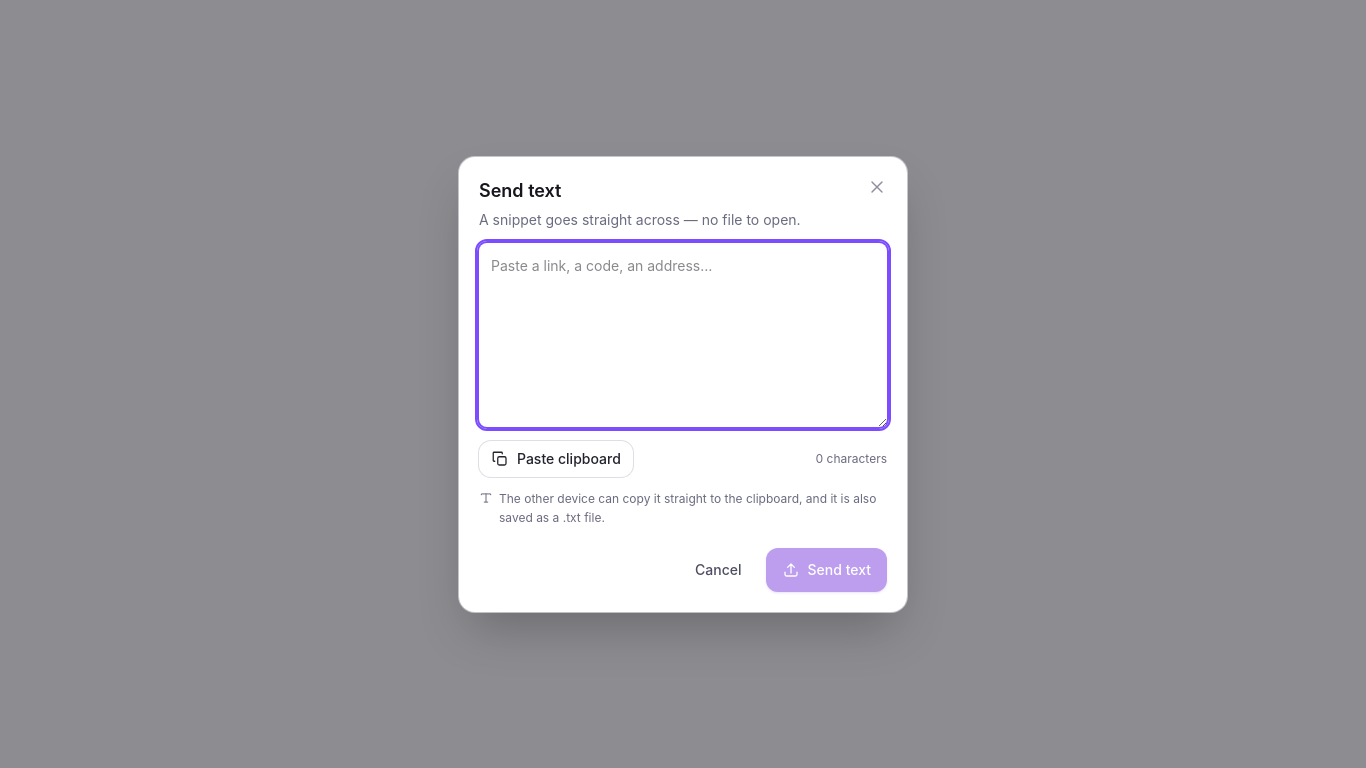
TextComposer › can pull the clipboard in
The image size is (1366, 768).
Click the button "Paste clipboard". click: point(556, 458)
box: [479,440,633,476]
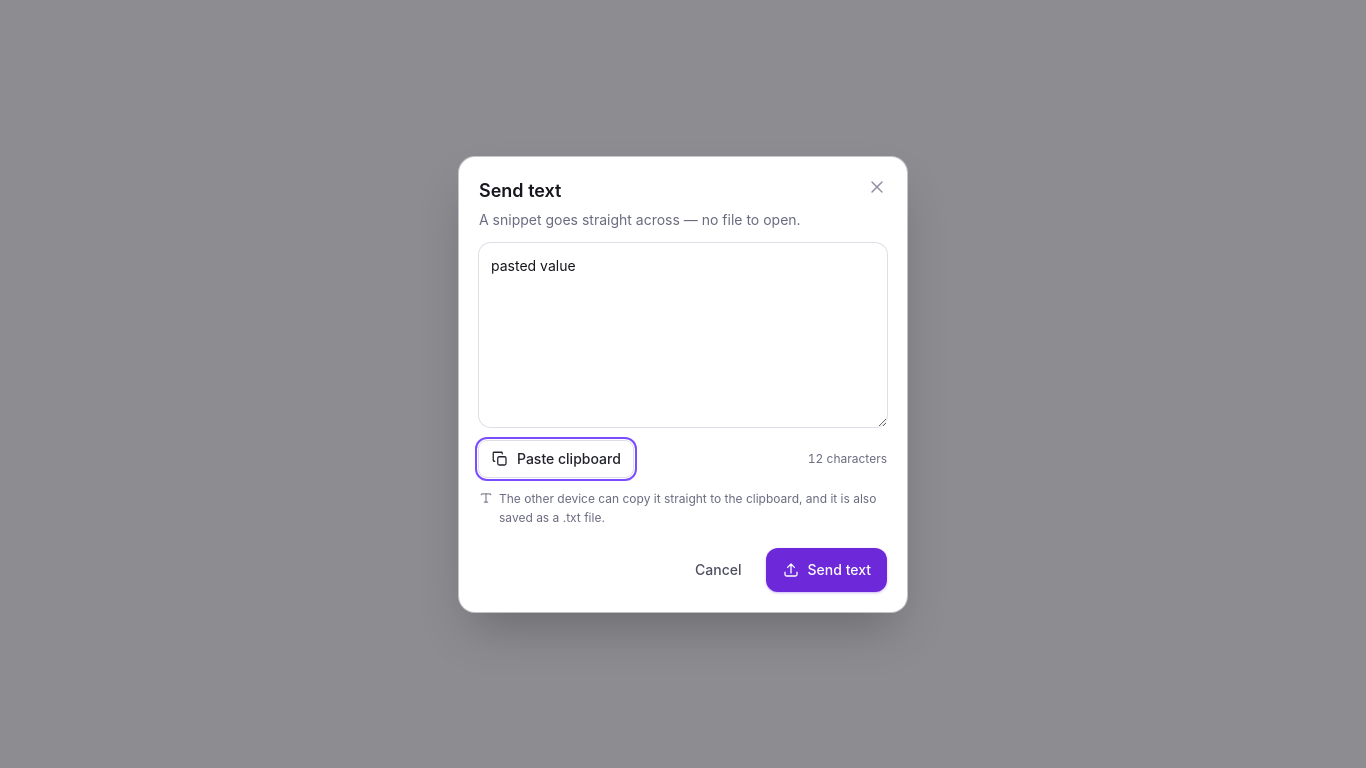
Expected: the text box showing "pasted value" is shown, [479,243,887,427]
